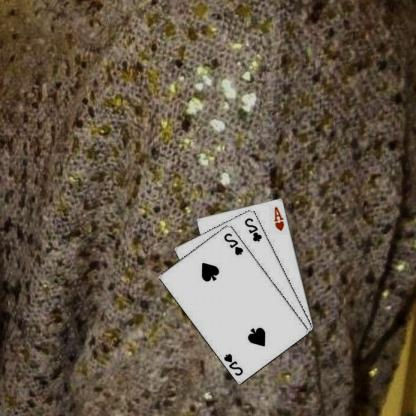2C: (244, 215, 265, 243)
2S: (223, 230, 246, 256), (223, 350, 246, 376)
AH: (273, 204, 287, 232)
